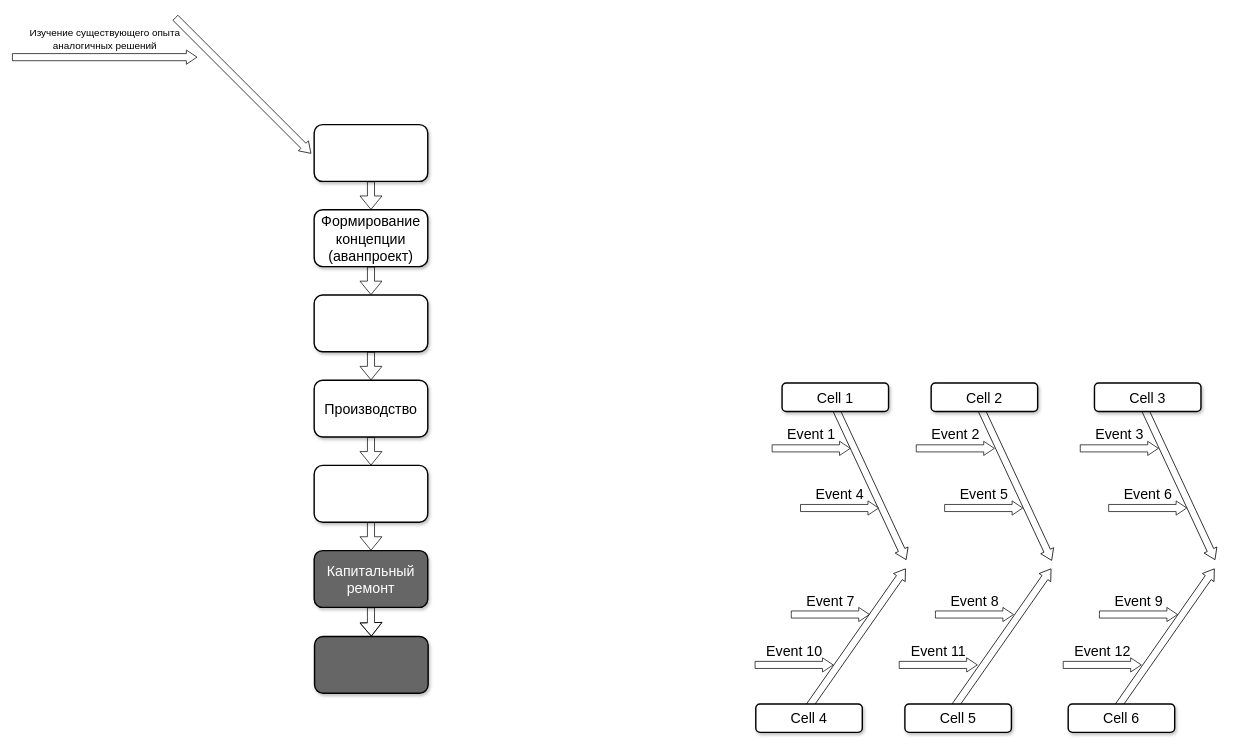
Some shapes in this 1234 by 750 pixel diagram are drawn without their labels. The shapes that lost their labels are listed below. From the top down, each one's centre as x and y in pixels, then its label:
At [371,154]: "Создание НТЗ".
At [371,324]: "Разработка".
At [371,495]: "Эксплуатация".
At [372,666]: "Утилизация".
